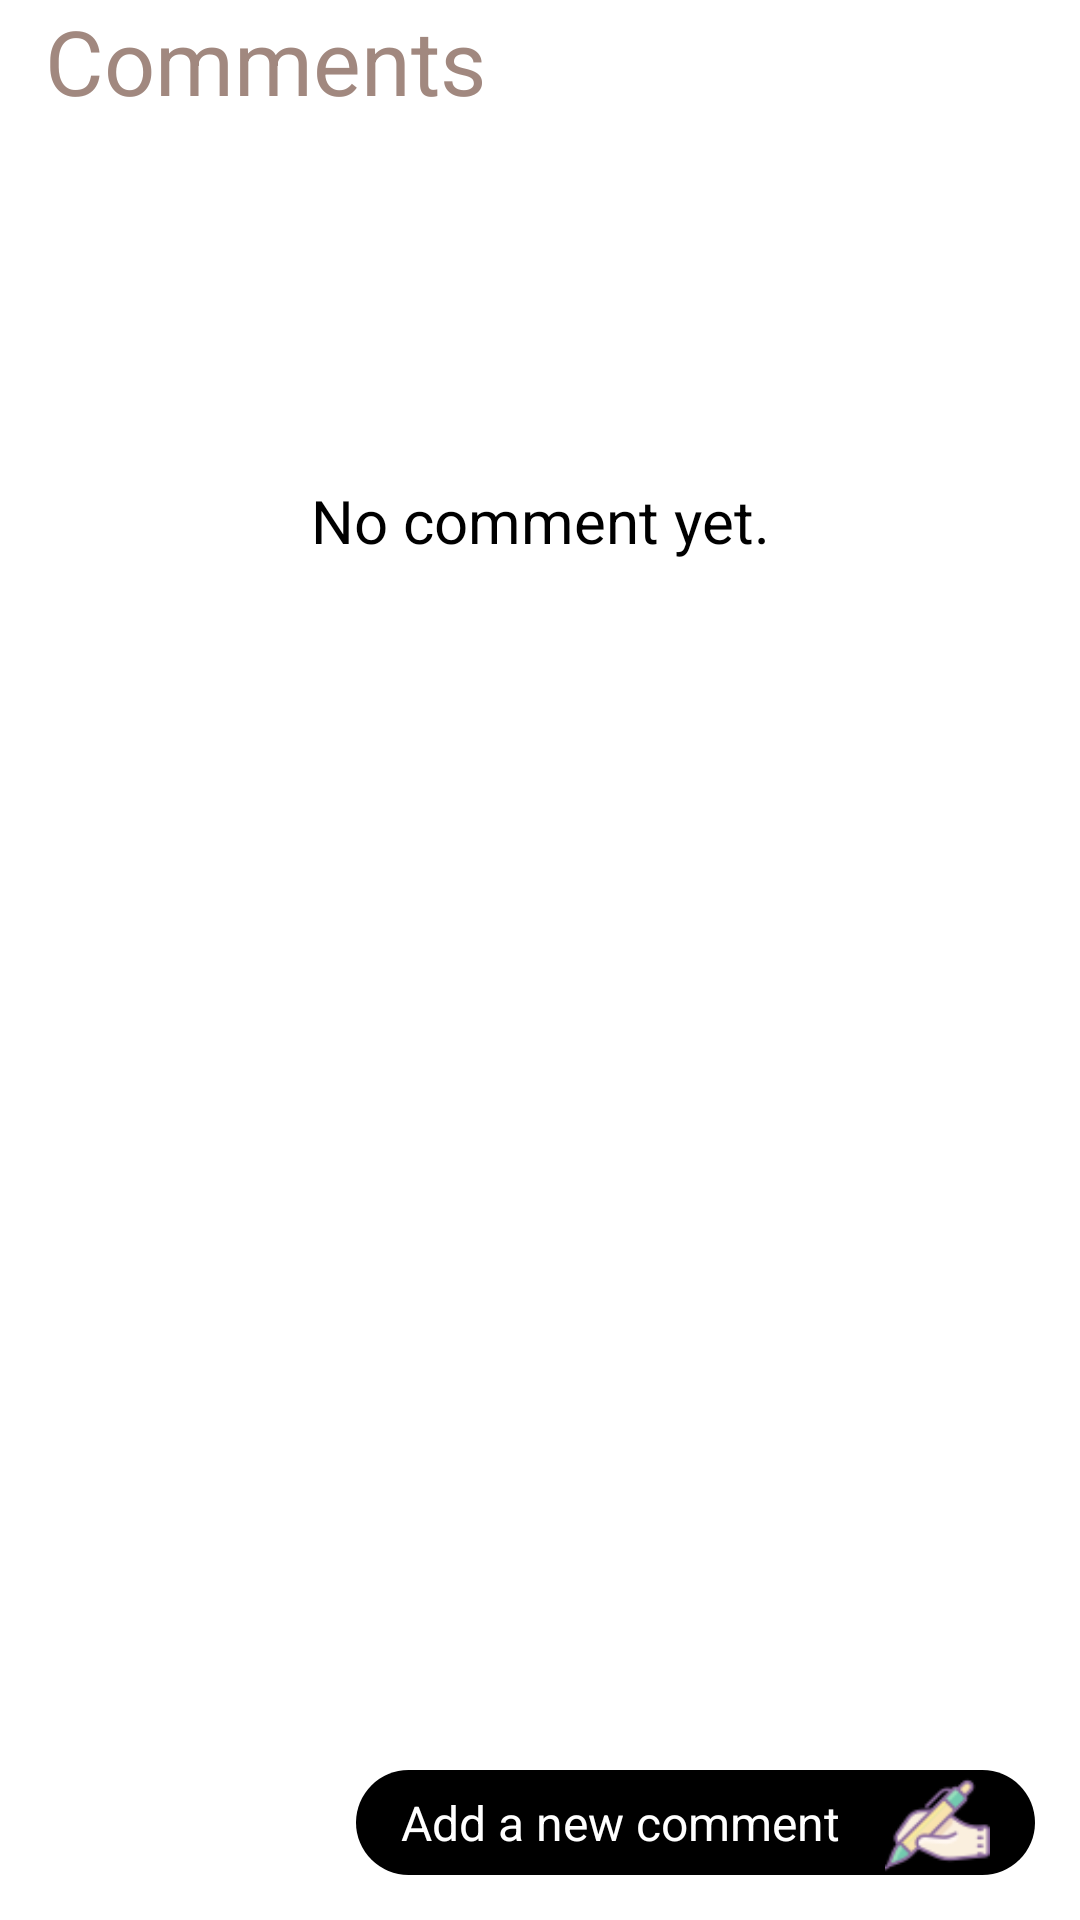

Where to tap for icons on this 1080px×1920px app screen, as (x,y):
hand: (937,1822)
